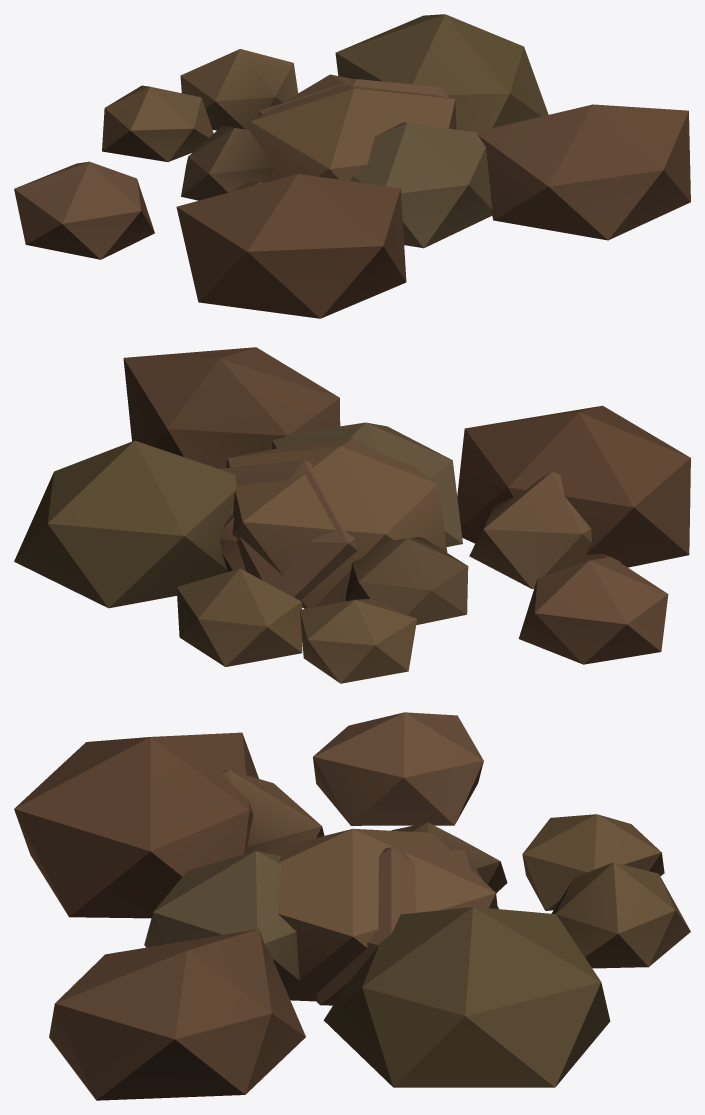
The model's file is debris_desert_lod1.glb.
3 views of the same model, one above another, from view 1: azimuth 30°, elevation 25°; view 2: azimuth 150°, elevation 25°; view 3: azimuth 270°, elevation 25° (orthographic). The views are drawn at different scales.
Visible parts, largest first — view 1: v0, v2, v1; view 2: v0, v2, v1; view 3: v0, v1, v2.
Boxes of the visible parts, left/top/right/bottom form: v0: left=180, top=49, right=690, bottom=240; v2: left=14, top=79, right=448, bottom=318; v1: left=102, top=14, right=548, bottom=248; v0: left=123, top=347, right=468, bottom=666; v2: left=218, top=405, right=690, bottom=664; v1: left=14, top=422, right=462, bottom=683; v0: left=49, top=822, right=690, bottom=1100; v1: left=144, top=814, right=664, bottom=1087; v2: left=14, top=712, right=498, bottom=1005.
Bounding box in the file's own units: 0.574 × 0.1073 × 0.4594.
